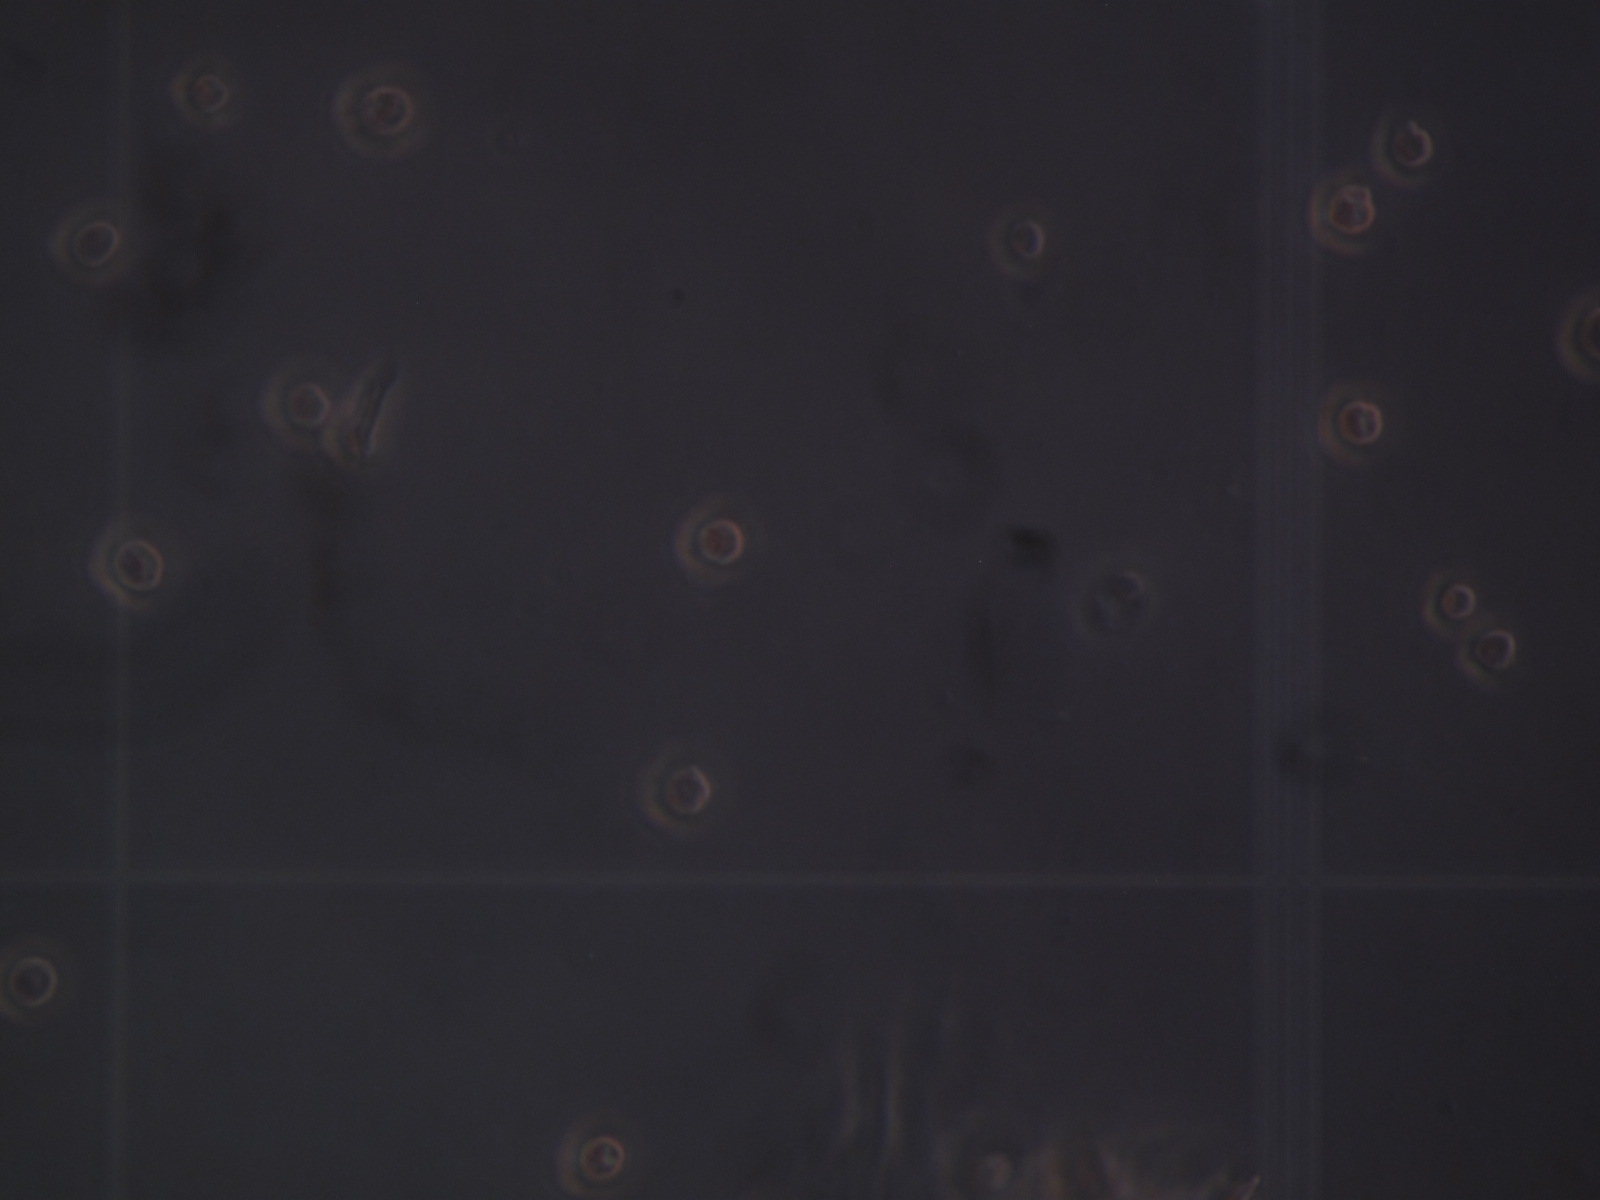hemo: (636, 736, 712, 843), (1, 933, 77, 1029), (334, 71, 416, 158), (91, 518, 163, 614), (258, 361, 330, 447), (1315, 382, 1383, 465), (674, 503, 745, 581), (1310, 171, 1374, 256), (55, 200, 118, 284), (558, 1117, 624, 1195), (173, 53, 232, 129), (1374, 113, 1432, 188), (1424, 568, 1482, 638), (1458, 623, 1514, 688), (989, 214, 1044, 281)
